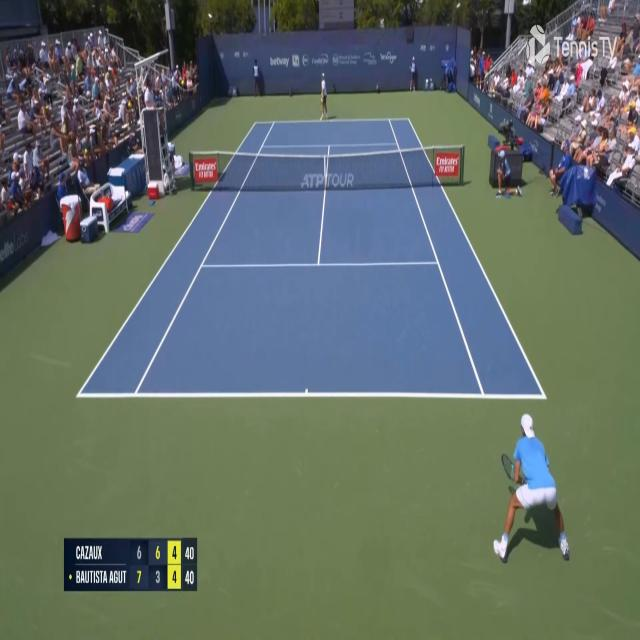tennis-player: (492, 408, 572, 570), (318, 72, 330, 122)
